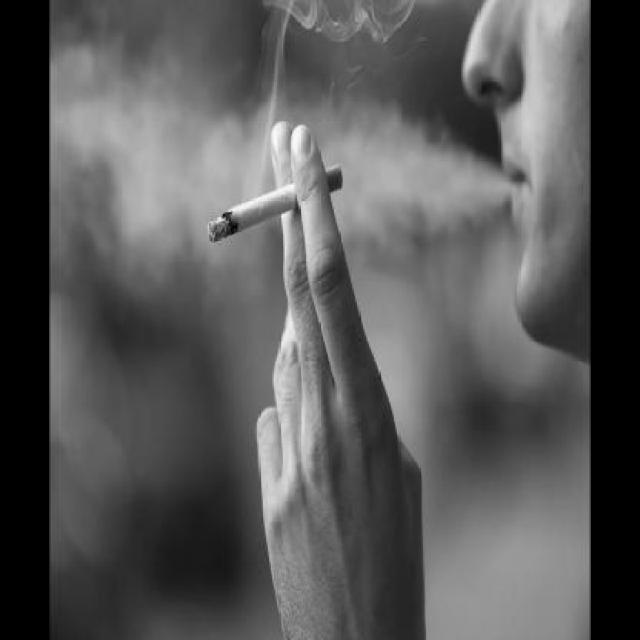smoke: (208, 120, 342, 305)
